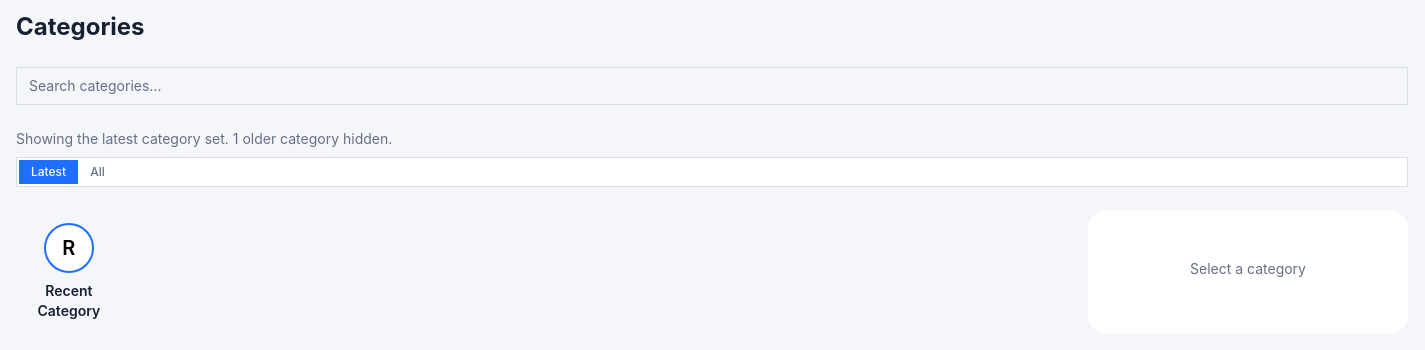
CategoriesEditorScreen › toggle switches between latest and all views
Expected: the text "Recent Category" is shown, [38,282,100,319]
Expected: the text "Old Category" is not shown
Click "All" to show everything
Click the button "All". click: [98, 172]
box: [78,160,117,184]
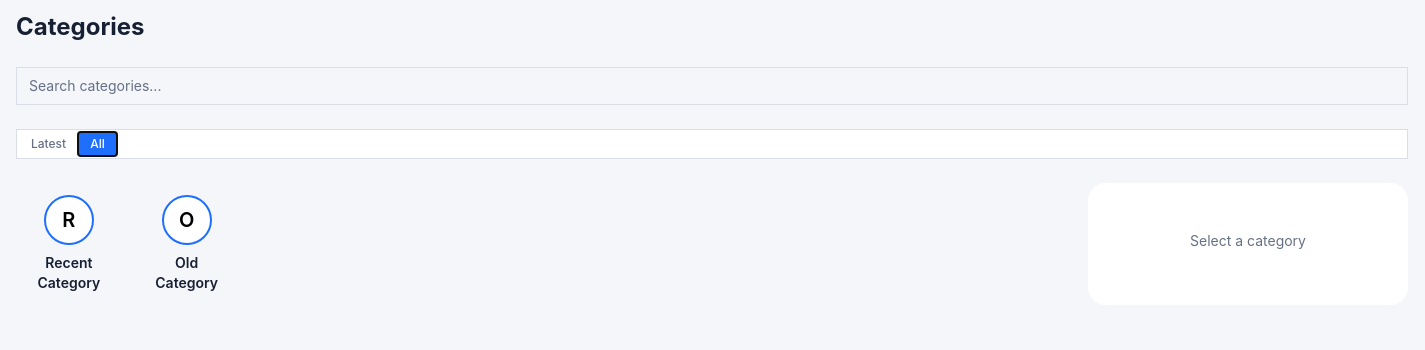
Expected: the text "Recent Category" is shown, [38,254,100,291]
Expected: the text "Old Category" is shown, [155,254,218,291]
Click "Latest" to go back
Click the button "Latest". click: [49, 144]
box: [19,132,78,156]
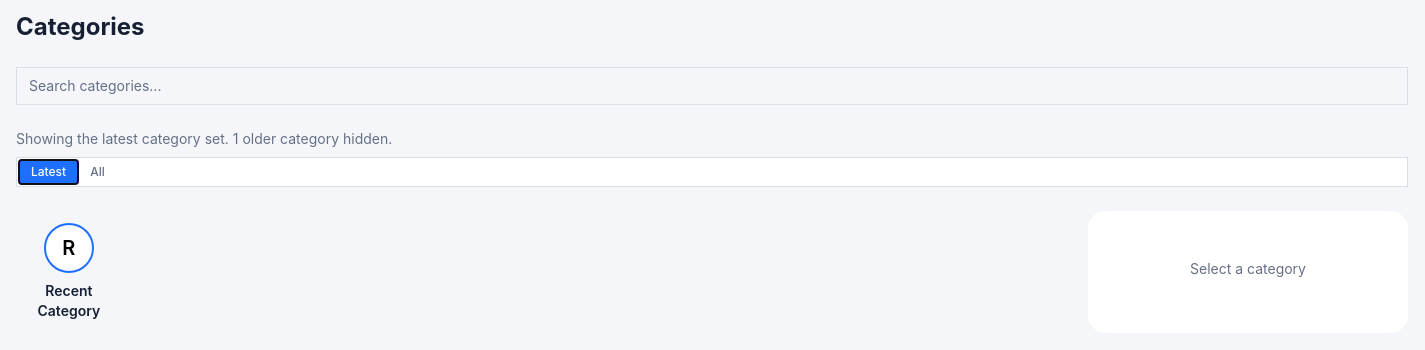
Expected: the text "Recent Category" is shown, [38,282,100,319]
Expected: the button "Old Category" is gone
